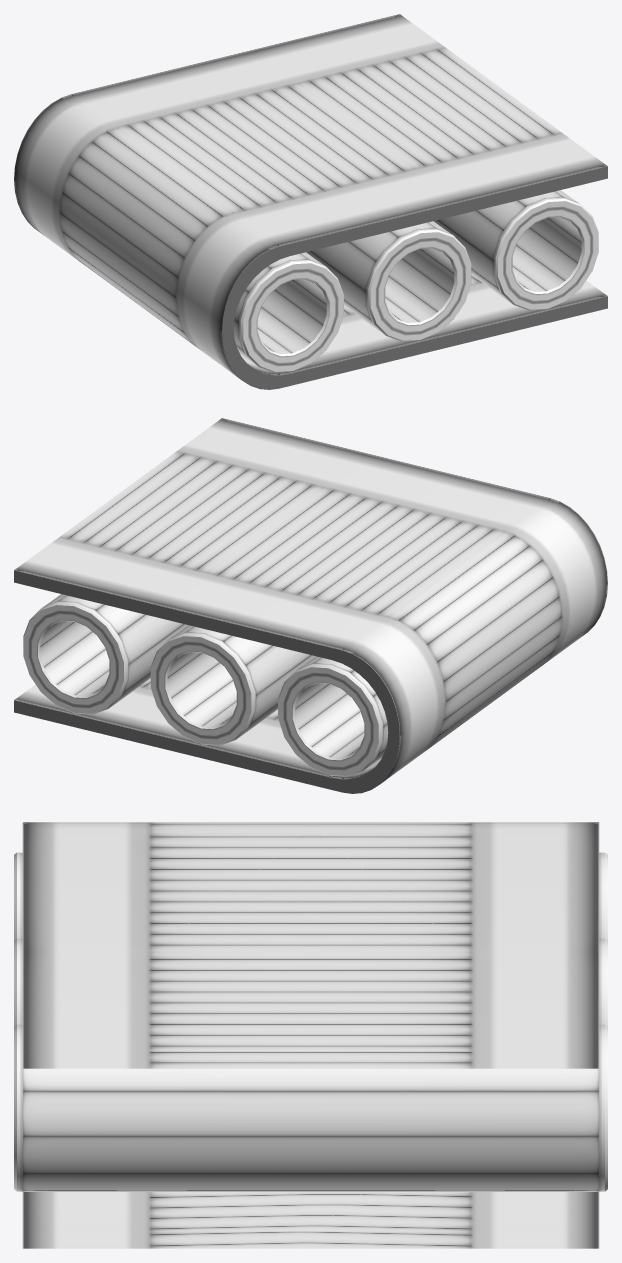
File: ConvEnd.FBX
3 views of the same model, one above another, from view 1: azimuth 30°, elevation 25°; view 2: azimuth 150°, elevation 25°; view 3: azimuth 270°, elevation 25° (orthographic). The views are drawn at different scales.
Visible parts, largest first — view 1: Conveyer_End; view 2: Conveyer_End; view 3: Conveyer_End.
Part boxes in pixels (left/top/right/bottom): Conveyer_End: left=14, top=14, right=607, bottom=389; Conveyer_End: left=14, top=418, right=607, bottom=793; Conveyer_End: left=14, top=822, right=607, bottom=1248.
Bounding box in the file's own units: 21.4 × 7.53 × 20.6.
